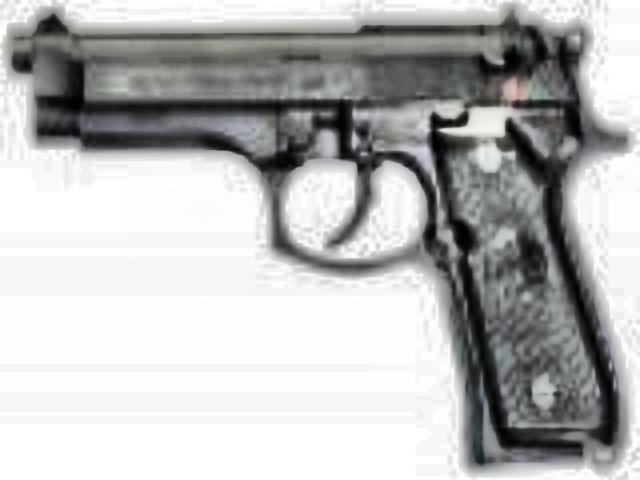pistol: (4, 0, 620, 456)
